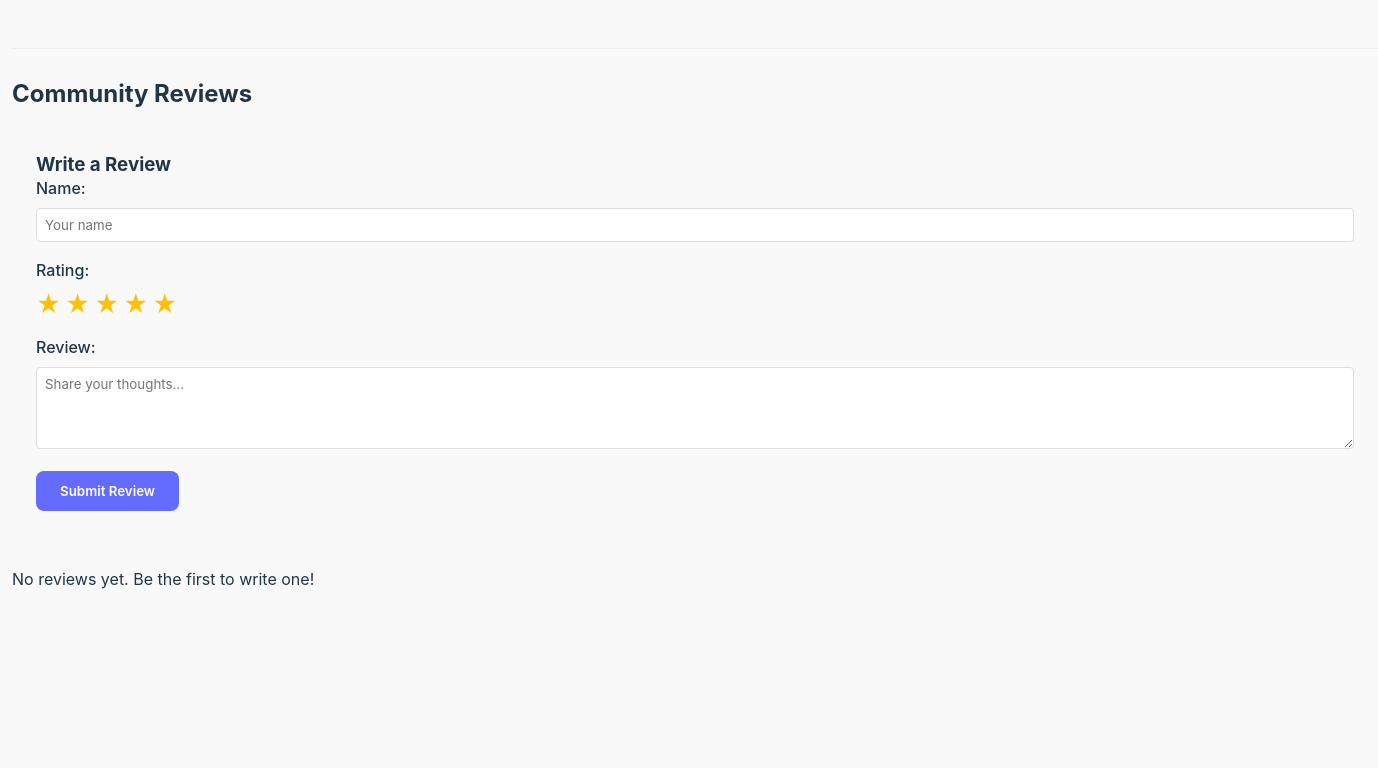
Scenario: Review System › allows voting on reviews
# Add a review first
In the field with placeholder "Your name": [695, 225] box left=36, top=208, right=1354, bottom=242, type "Voter"
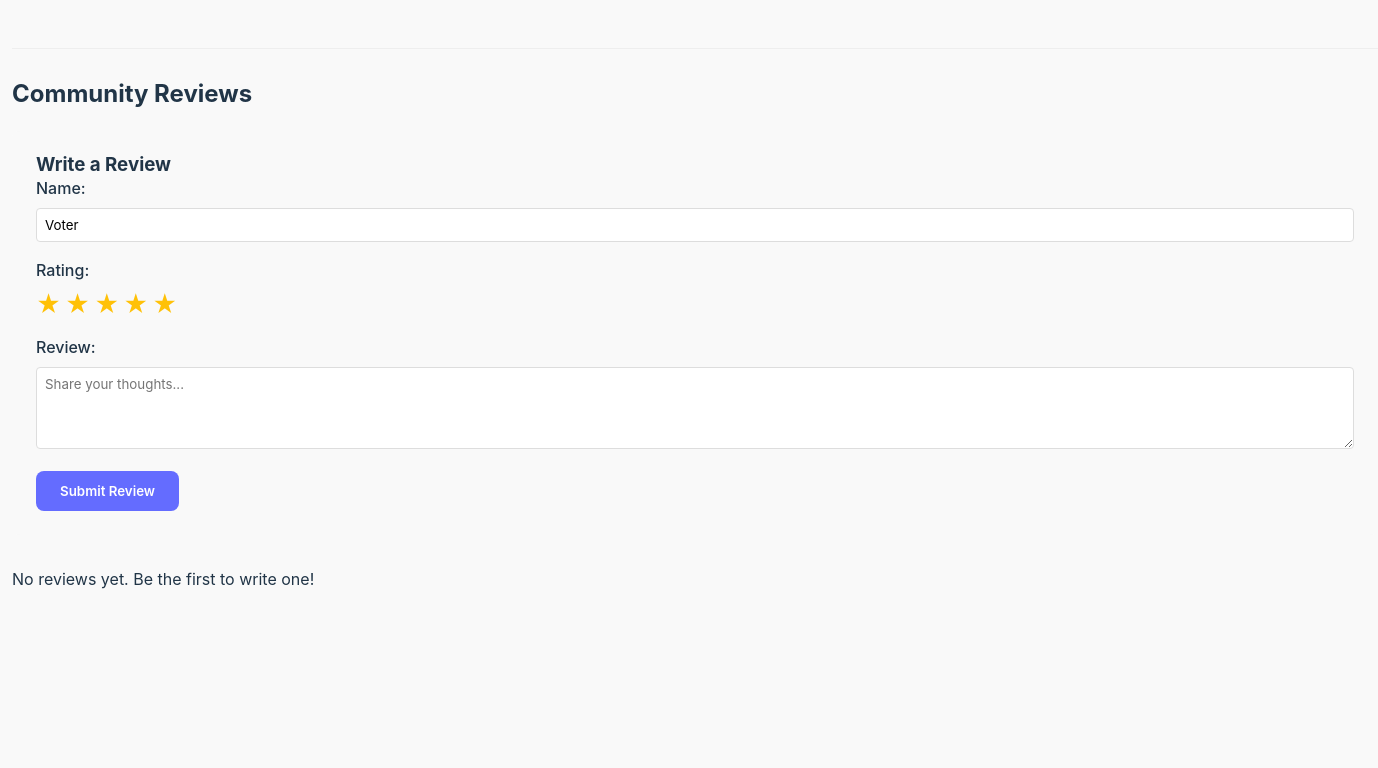
In the text box with placeholder "Share your thoughts...": [695, 408] box left=36, top=367, right=1354, bottom=449, type "Vote me"
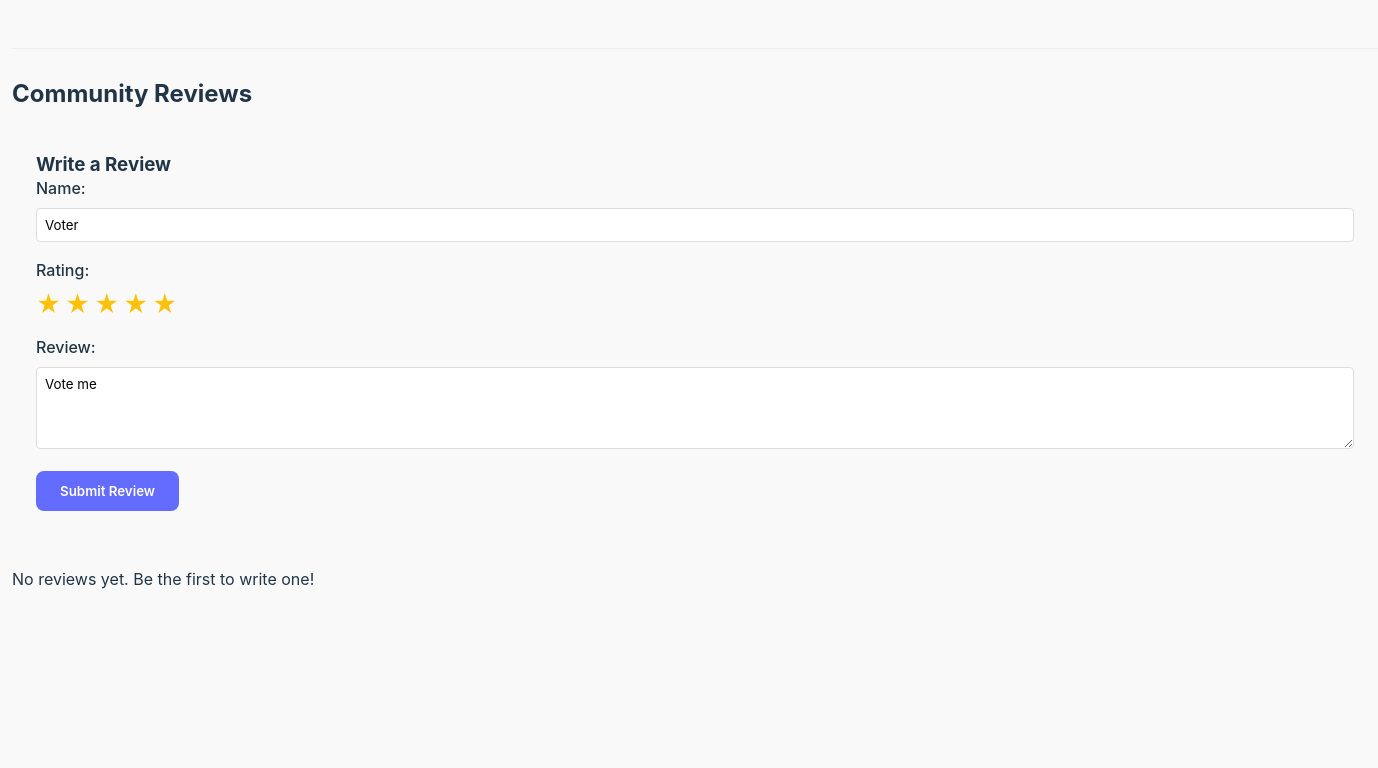
Click the button "Submit Review": [108, 491] box left=36, top=471, right=179, bottom=511
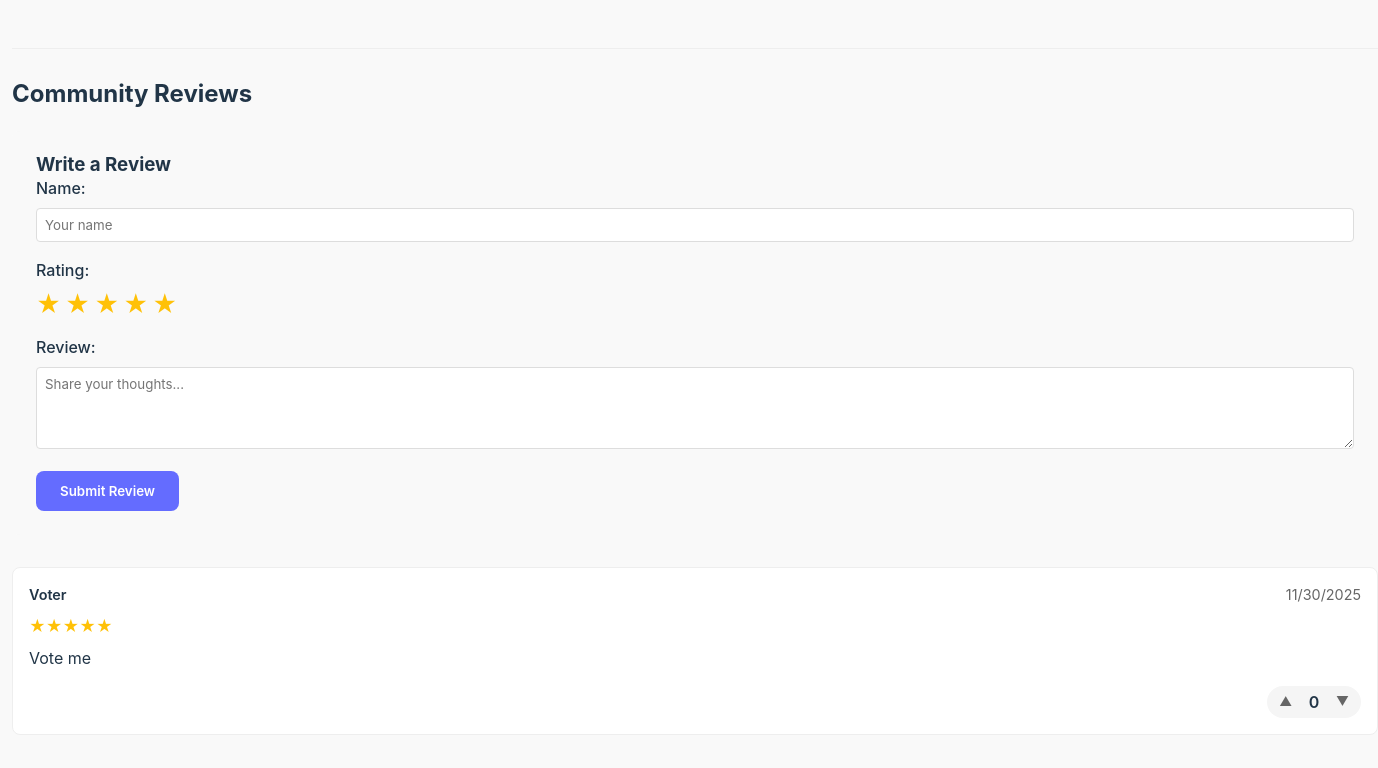
Click the button "▲": [1286, 702] box left=1275, top=690, right=1296, bottom=713
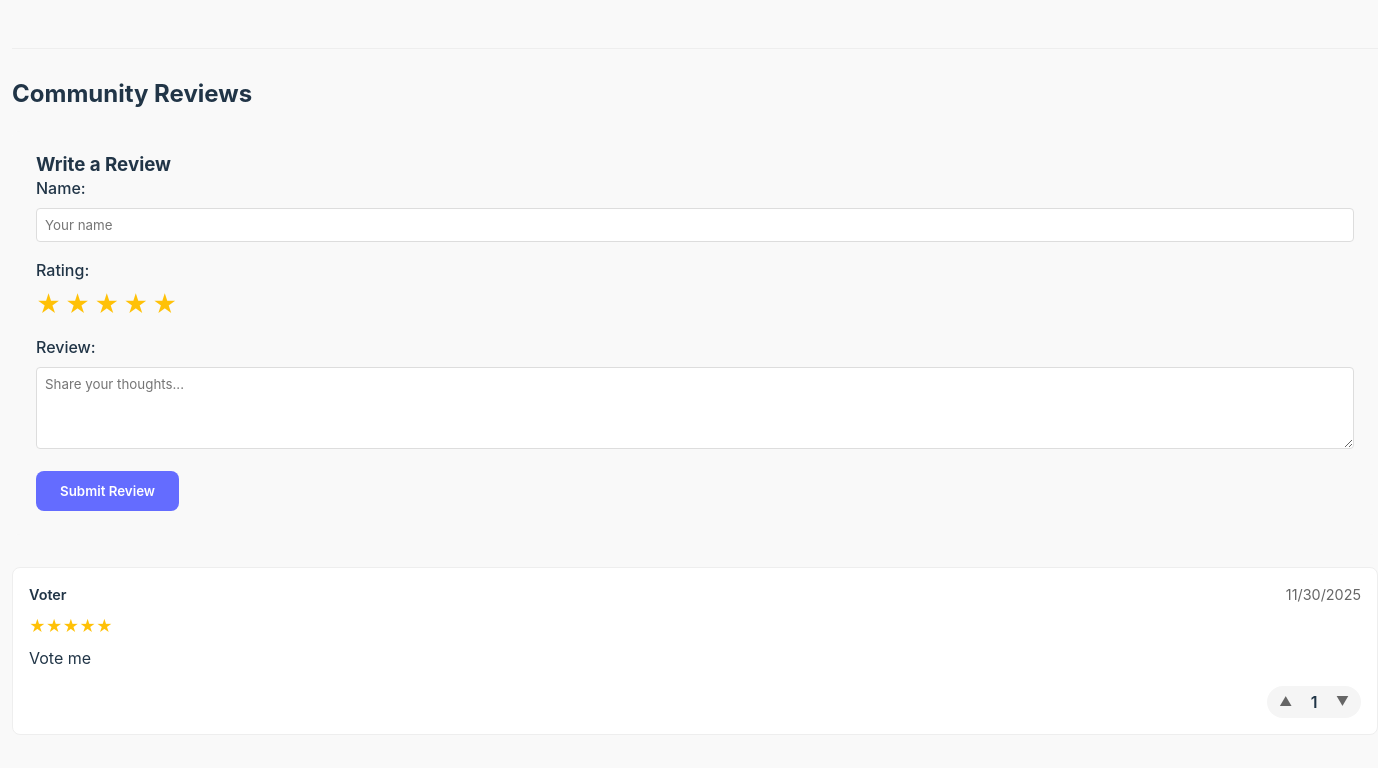
Expected: the text "0" reads "1", left=1311, top=692, right=1318, bottom=712
Click the button "▼": [1343, 702] box left=1332, top=690, right=1353, bottom=713
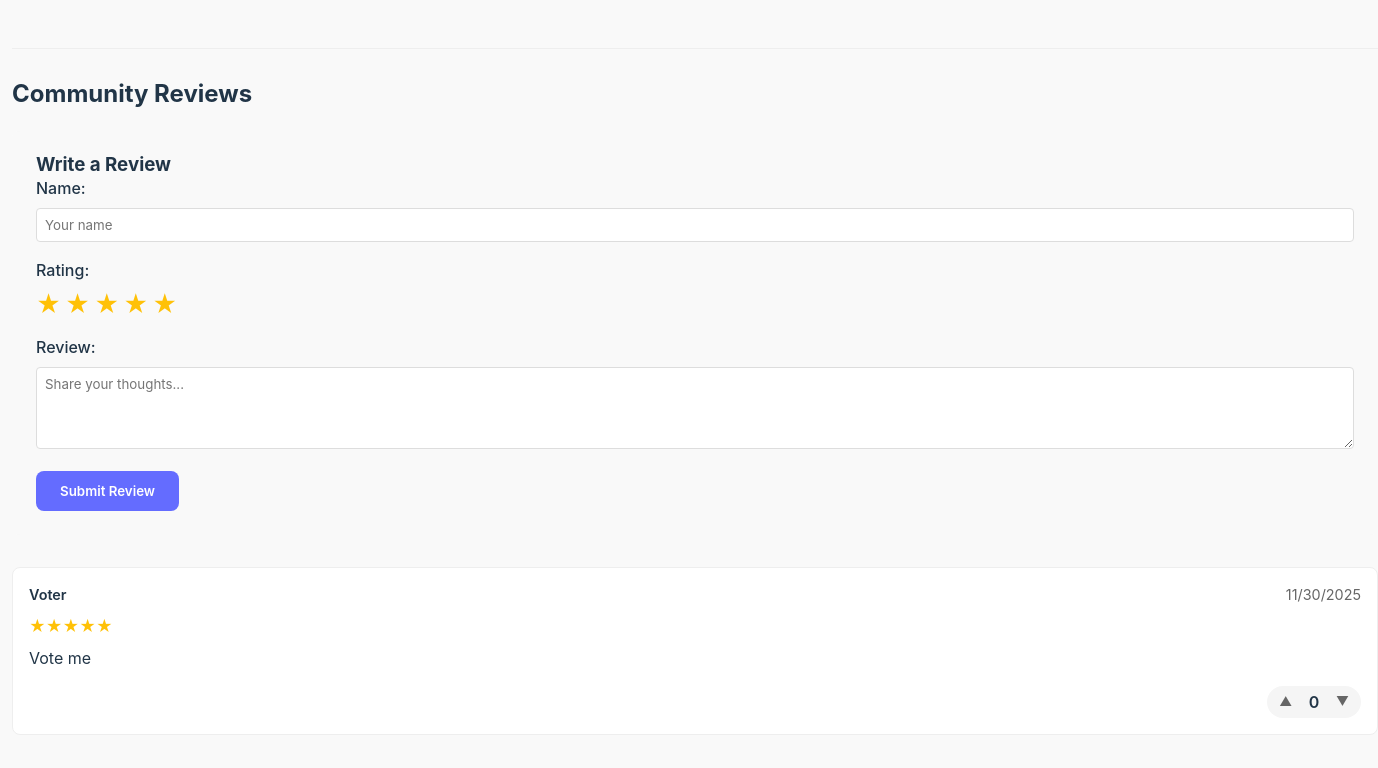
Expected: the text "0" is shown, left=1309, top=692, right=1319, bottom=712
